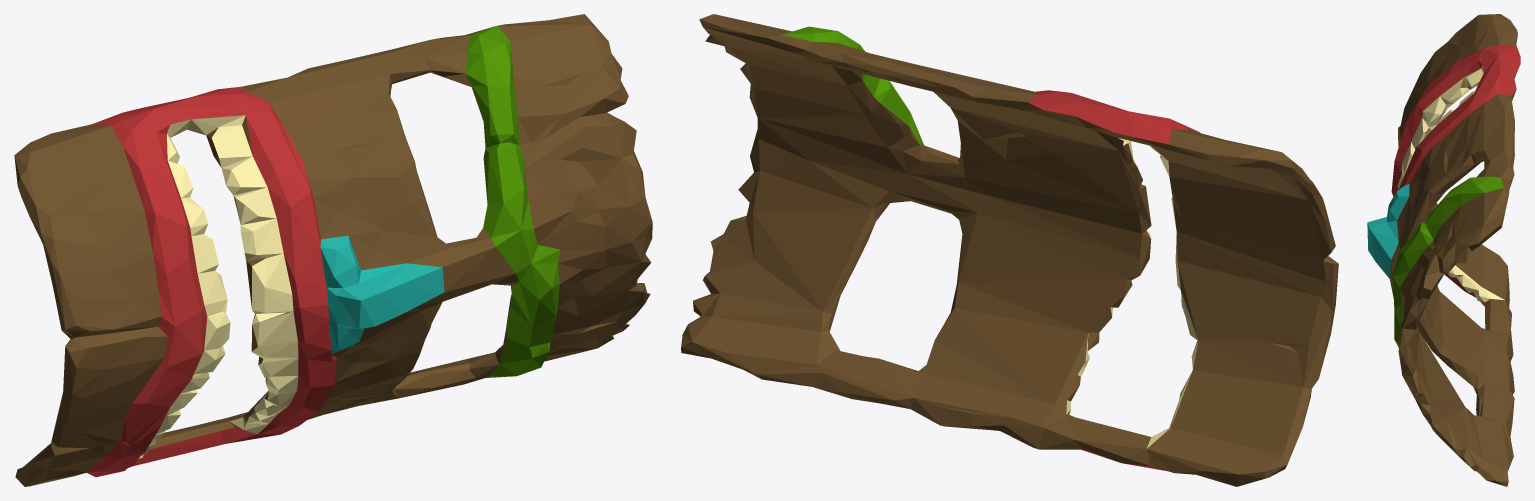
Rendered from TikiMask.fbx.
The picture shows the model from 3 angles, left to right: view 1: azimuth 30°, elevation 25°; view 2: azimuth 150°, elevation 25°; view 3: azimuth 270°, elevation 25°; orthographic projection. The views are drawn at different scales.
Visible parts, largest first — view 1: tiki; view 2: tiki; view 3: tiki.
Boxes of the visible parts, left/top/right/bottom form: tiki: left=14, top=14, right=652, bottom=486; tiki: left=681, top=14, right=1338, bottom=486; tiki: left=1367, top=14, right=1520, bottom=486.
Size of the model in its own units: 0.1881 by 0.1045 by 0.0535.
